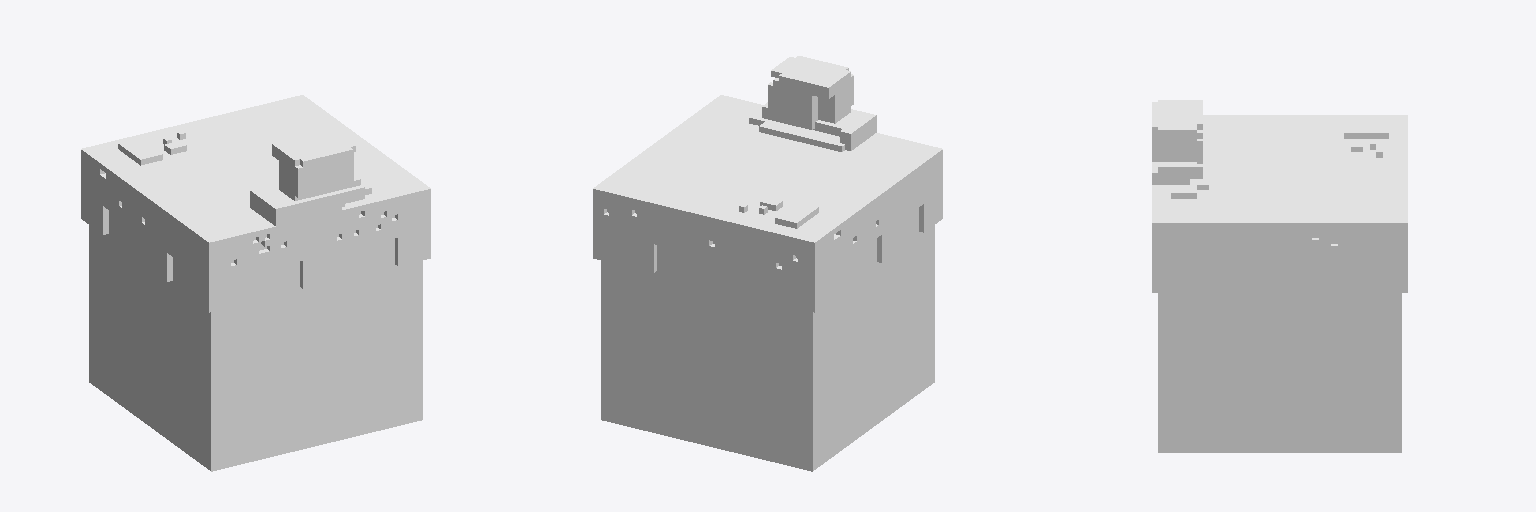
Rendered from tile_base_top_2.obj.
The picture shows the model from 3 angles: view 1: azimuth 30°, elevation 25°; view 2: azimuth 150°, elevation 25°; view 3: azimuth 270°, elevation 25°; orthographic projection.
Visible parts, largest first — view 1: tile_base_top_2; view 2: tile_base_top_2; view 3: tile_base_top_2.
Boxes of the visible parts, x1,y1,x2,y2 form: tile_base_top_2: [81, 95, 430, 471]; tile_base_top_2: [593, 56, 942, 471]; tile_base_top_2: [1152, 100, 1407, 452].
Size of the model in its own units: 40 by 50 by 40.